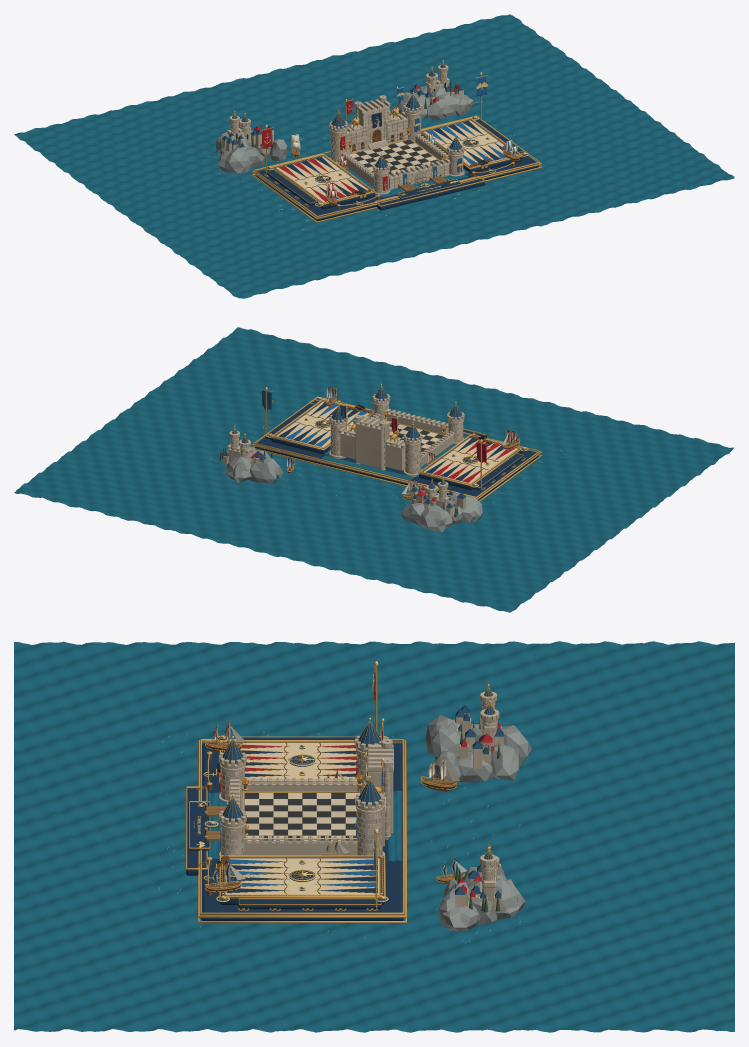
File: board.glb
The picture shows the model from 3 angles, top to bottom: view 1: azimuth 30°, elevation 25°; view 2: azimuth 150°, elevation 25°; view 3: azimuth 270°, elevation 25°; orthographic projection. The views are drawn at different scales.
Parts seen in each view (by area): view 1: MER • eau turquoise profonde, BLEU • laque marine, BLENDERKIT • Or raye • Scratched Gold, ROCHER • falaise calcaire, CALCAIRE • nuance 02, IVOIRE • parchemin, CALCAIRE • nuance 03, CALCAIRE • nuance 01, CARMIN • velours du lion, AZUR • velours royal, ARDOISE • toitures, CALCAIRE • nuance 04 (+6 smaller); view 2: MER • eau turquoise profonde, CALCAIRE • nuance 02, BLENDERKIT • Or raye • Scratched Gold, BLEU • laque marine, ROCHER • falaise calcaire, IVOIRE • parchemin, CALCAIRE • nuance 03, CALCAIRE • nuance 01, ARDOISE • toitures, CARMIN • velours du lion, AZUR • velours royal, CALCAIRE • nuance 00 (+3 smaller); view 3: MER • eau turquoise profonde, BLENDERKIT • Or raye • Scratched Gold, BLEU • laque marine, ROCHER • falaise calcaire, IVOIRE • parchemin, CALCAIRE • nuance 02, CALCAIRE • nuance 01, CALCAIRE • nuance 03, BLENDERKIT • Marbre noir • variation, BLENDERKIT • Marbre ivoire • Simple marble, ARDOISE • toitures, OR • filets et gravure (+8 smaller).
Part boxes in pixels (bbox=[...]): MER • eau turquoise profonde: bbox=[14, 14, 734, 298]; BLEU • laque marine: bbox=[255, 112, 538, 220]; BLENDERKIT • Or raye • Scratched Gold: bbox=[232, 59, 542, 222]; ROCHER • falaise calcaire: bbox=[216, 85, 474, 173]; CALCAIRE • nuance 02: bbox=[222, 65, 464, 193]; IVOIRE • parchemin: bbox=[276, 120, 517, 202]; CALCAIRE • nuance 03: bbox=[230, 71, 464, 192]; CALCAIRE • nuance 01: bbox=[232, 72, 464, 196]; CARMIN • velours du lion: bbox=[239, 84, 459, 201]; AZUR • velours royal: bbox=[397, 76, 517, 184]; ARDOISE • toitures: bbox=[222, 63, 463, 170]; CALCAIRE • nuance 04: bbox=[228, 72, 463, 193]; MER • eau turquoise profonde: bbox=[14, 327, 734, 612]; CALCAIRE • nuance 02: bbox=[227, 393, 464, 515]; BLENDERKIT • Or raye • Scratched Gold: bbox=[232, 382, 542, 501]; BLEU • laque marine: bbox=[255, 398, 538, 500]; ROCHER • falaise calcaire: bbox=[221, 446, 482, 532]; IVOIRE • parchemin: bbox=[276, 401, 517, 483]; CALCAIRE • nuance 03: bbox=[227, 399, 464, 503]; CALCAIRE • nuance 01: bbox=[223, 402, 464, 505]; ARDOISE • toitures: bbox=[224, 387, 465, 508]; CARMIN • velours du lion: bbox=[250, 417, 517, 502]; AZUR • velours royal: bbox=[262, 386, 436, 467]; CALCAIRE • nuance 00: bbox=[230, 402, 465, 508]; MER • eau turquoise profonde: bbox=[14, 641, 734, 1032]; BLENDERKIT • Or raye • Scratched Gold: bbox=[186, 662, 495, 923]; BLEU • laque marine: bbox=[186, 736, 403, 920]; ROCHER • falaise calcaire: bbox=[425, 714, 531, 931]; IVOIRE • parchemin: bbox=[225, 743, 379, 894]; CALCAIRE • nuance 02: bbox=[218, 691, 499, 907]; CALCAIRE • nuance 01: bbox=[218, 702, 502, 910]; CALCAIRE • nuance 03: bbox=[219, 701, 500, 907]; BLENDERKIT • Marbre noir • variation: bbox=[244, 793, 356, 840]; BLENDERKIT • Marbre ivoire • Simple marble: bbox=[244, 793, 359, 840]; ARDOISE • toitures: bbox=[222, 688, 503, 898]; OR • filets et gravure: bbox=[197, 661, 490, 901].
Size of the model in its own units: 70 by 9.79 by 55.
